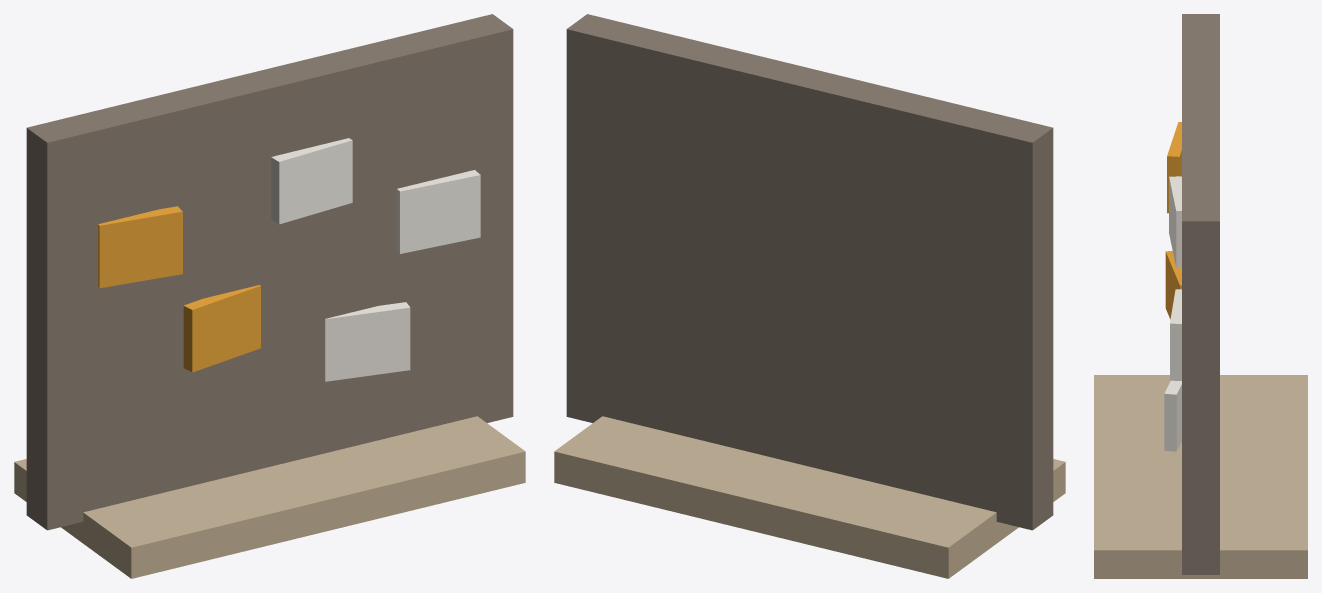
The model's file is station_intake_2.glb.
The picture shows the model from 3 angles, left to right: view 1: azimuth 30°, elevation 25°; view 2: azimuth 150°, elevation 25°; view 3: azimuth 270°, elevation 25°; orthographic projection. The views are drawn at different scales.
Visible parts, largest first — view 1: tafel_flaeche, tafel_fuss, zettel_4, zettel_0, zettel_2, zettel_1, zettel_3; view 2: tafel_flaeche, tafel_fuss; view 3: tafel_fuss, tafel_flaeche, zettel_4, zettel_1, zettel_2, zettel_3, zettel_0.
Boxes of the visible parts, left/top/right/bottom form: tafel_flaeche: left=26, top=14, right=513, bottom=530; tafel_fuss: left=14, top=416, right=525, bottom=578; zettel_4: left=325, top=302, right=410, bottom=381; zettel_0: left=98, top=206, right=182, bottom=288; zettel_2: left=397, top=170, right=480, bottom=253; zettel_1: left=271, top=138, right=352, bottom=224; zettel_3: left=183, top=285, right=260, bottom=372; tafel_flaeche: left=566, top=14, right=1053, bottom=530; tafel_fuss: left=554, top=416, right=1065, bottom=578; tafel_fuss: left=1094, top=375, right=1307, bottom=578; tafel_flaeche: left=1182, top=14, right=1219, bottom=574; zettel_4: left=1164, top=380, right=1181, bottom=451; zettel_1: left=1169, top=176, right=1181, bottom=268; zettel_2: left=1170, top=289, right=1181, bottom=380; zettel_3: left=1165, top=251, right=1181, bottom=319; zettel_0: left=1167, top=122, right=1181, bottom=213.
Bounding box in the file's own units: 0.78 × 0.655 × 0.34.
